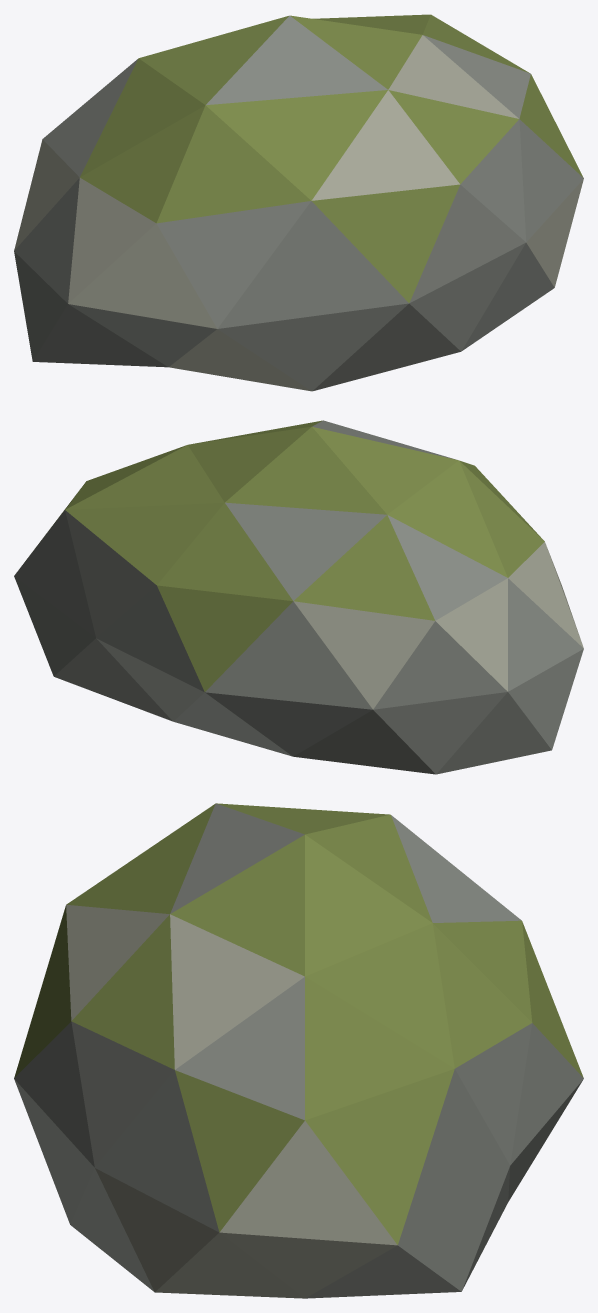
File: SM_MossRock_03.fbx
3 views of the same model, one above another, from view 1: azimuth 30°, elevation 25°; view 2: azimuth 150°, elevation 25°; view 3: azimuth 270°, elevation 25° (orthographic). The views are drawn at different scales.
Visible parts, largest first — view 1: SM_MossRock_03; view 2: SM_MossRock_03; view 3: SM_MossRock_03.
Part boxes in pixels (x1,y1,x2,y2): SM_MossRock_03: [14, 14, 583, 391]; SM_MossRock_03: [14, 420, 583, 774]; SM_MossRock_03: [14, 803, 583, 1298].
Size of the model in its own units: 3.16 by 2.38 by 1.59.
